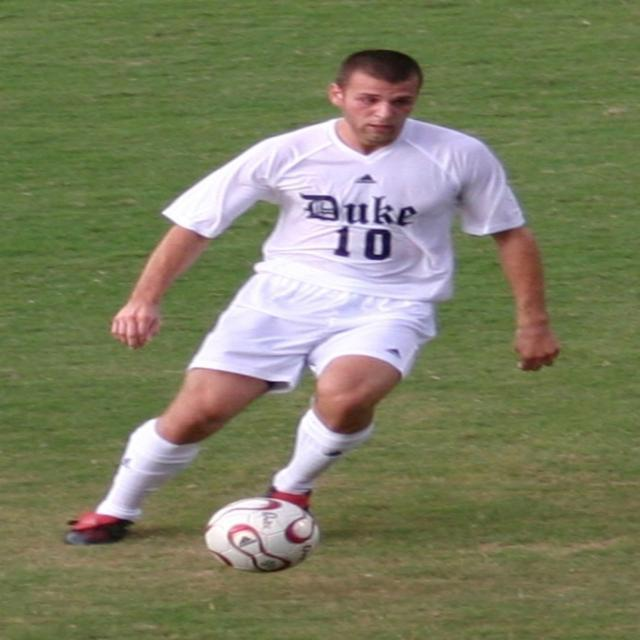football: (192, 484, 335, 583)
